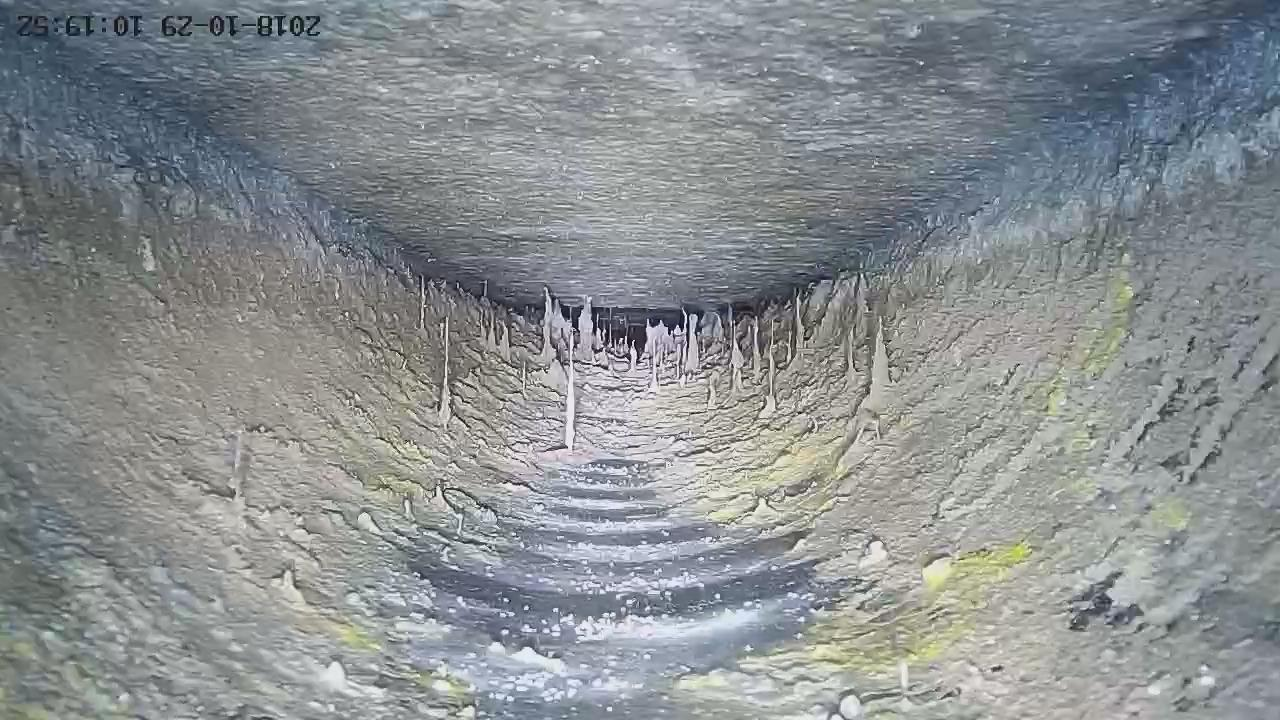FZ: (15, 1, 1241, 308)
JG: (1, 25, 1280, 720)
